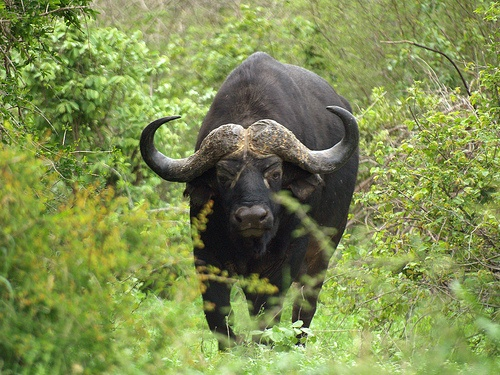buffalo: (139, 48, 361, 352)
